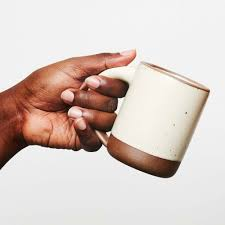mug: (66, 62, 213, 180)
